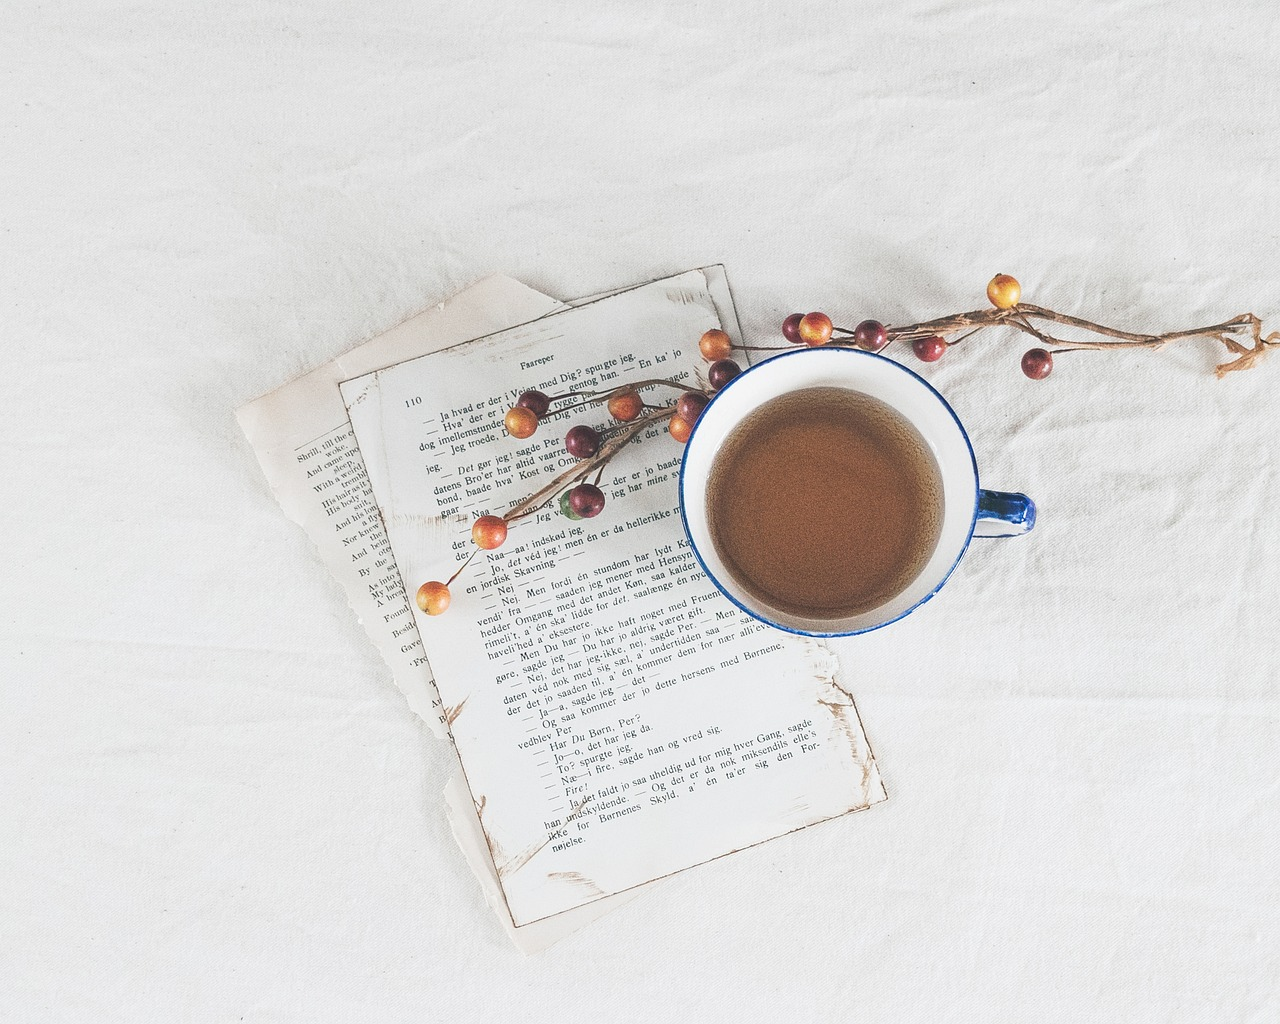mug: (668, 336, 1051, 660)
